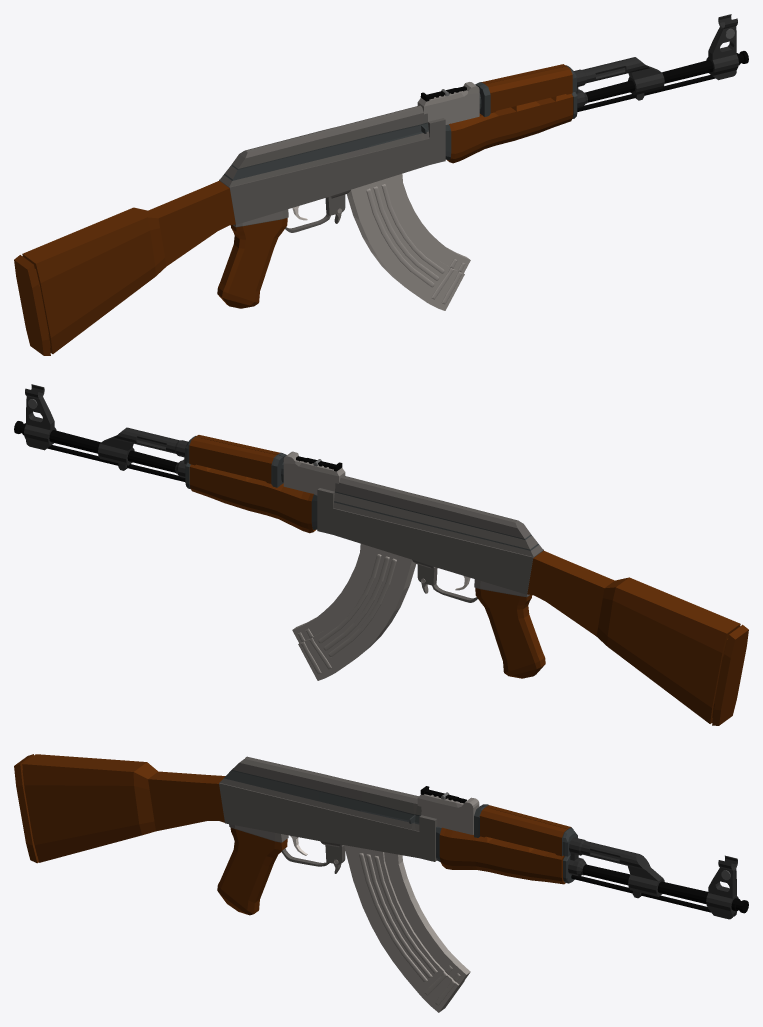
3 views of the same model, one above another, from view 1: azimuth 30°, elevation 25°; view 2: azimuth 150°, elevation 25°; view 3: azimuth 330°, elevation 25° (orthographic).
Parts seen in each view (by area): view 1: Cube, Cube.006, Cube.001, Cube.007, Cube.008, Cube.002, Cylinder.002, Cube.012, Cube.009, Circle, Cylinder.003, Cube.003; view 2: Cube, Cube.006, Cube.001, Cube.007, Cube.008, Cube.002, Cylinder.002, Cube.012, Cube.009, Circle, Cylinder.003, Cube.003; view 3: Cube, Cube.006, Cube.001, Cube.007, Cube.008, Cube.002, Cylinder.002, Cube.012, Cube.009, Circle, Cylinder.003, Cube.003.
Part boxes in pixels (box(x1,y1,x2,y2)): Cube: box(14, 180, 235, 355); Cube.006: box(346, 174, 470, 310); Cube.001: box(219, 118, 445, 224); Cube.007: box(220, 105, 429, 186); Cube.008: box(445, 93, 573, 163); Cube.002: box(217, 209, 288, 308); Cylinder.002: box(574, 51, 748, 107); Cube.012: box(475, 64, 576, 116); Cube.009: box(417, 82, 479, 124); Circle: box(706, 14, 738, 80); Cylinder.003: box(577, 75, 715, 111); Cube.003: box(285, 194, 345, 232); Cube: box(527, 550, 748, 725); Cube.006: box(292, 543, 416, 680); Cube.001: box(317, 488, 543, 594); Cube.007: box(333, 475, 542, 556); Cube.008: box(189, 464, 317, 533); Cube.002: box(474, 579, 545, 678); Cylinder.002: box(14, 421, 187, 477); Cube.012: box(185, 435, 286, 487); Cube.009: box(283, 451, 345, 494); Circle: box(24, 384, 56, 450); Cylinder.003: box(47, 445, 185, 481); Cube.003: box(417, 564, 477, 602); Cube: box(14, 754, 225, 863); Cube.006: box(344, 845, 470, 1012); Cube.001: box(219, 783, 437, 861); Cube.007: box(219, 756, 421, 831); Cube.008: box(436, 826, 565, 884); Cube.002: box(217, 824, 288, 915); Cylinder.002: box(568, 837, 748, 913); Cube.012: box(474, 804, 577, 856); Cube.009: box(417, 794, 479, 834); Circle: box(706, 855, 738, 919); Cylinder.003: box(571, 875, 710, 912); Cube.003: box(281, 845, 345, 866).
Size of the model in its own units: 1414 by 412 by 54.29.
